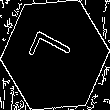L_SE: (28, 30, 82, 80)
